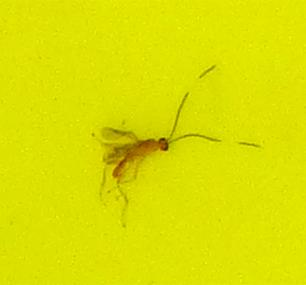Hymenoptera: (100, 100, 206, 185)
